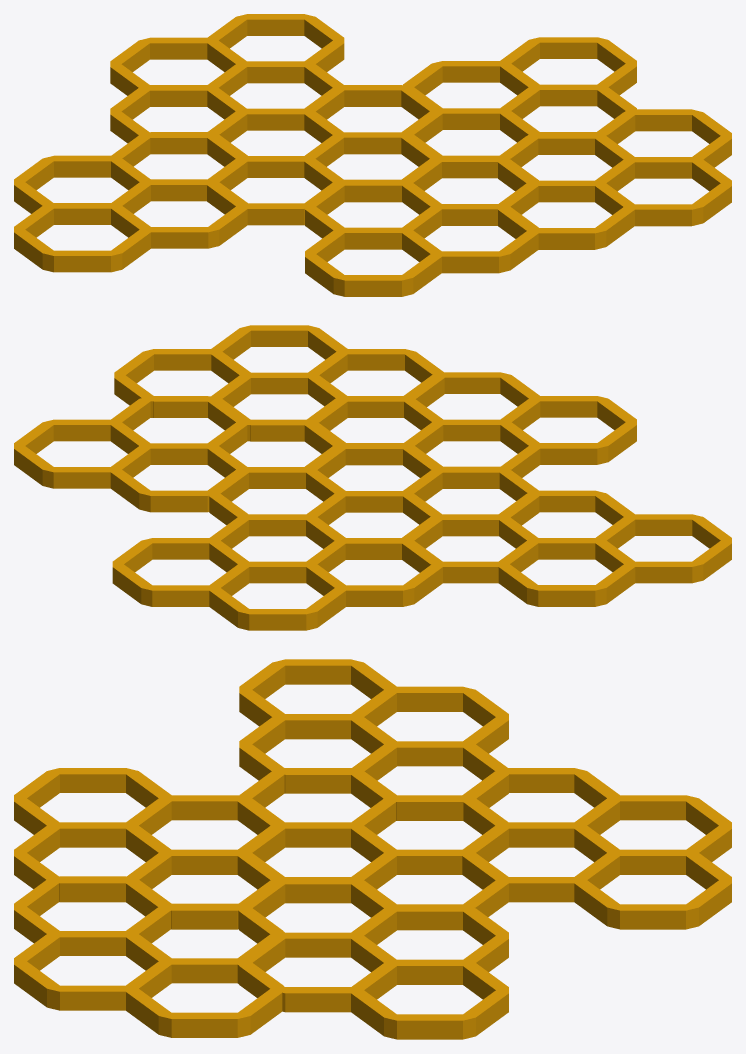
The model's file is honey-comb-hat-my-guy_atnjipGFNO.glb.
The picture shows the model from 3 angles, top to bottom: view 1: azimuth 30°, elevation 25°; view 2: azimuth 150°, elevation 25°; view 3: azimuth 270°, elevation 25°; orthographic projection. The views are drawn at different scales.
Parts seen in each view (by area): view 1: HoneyComb.005; view 2: HoneyComb.005; view 3: HoneyComb.005.
Part boxes in pixels (x1,y1,x2,y2): HoneyComb.005: (14,14,731,296); HoneyComb.005: (14,325,731,630); HoneyComb.005: (14,659,731,1039).
Size of the model in its own units: 5.73 by 0.14 by 4.82.
